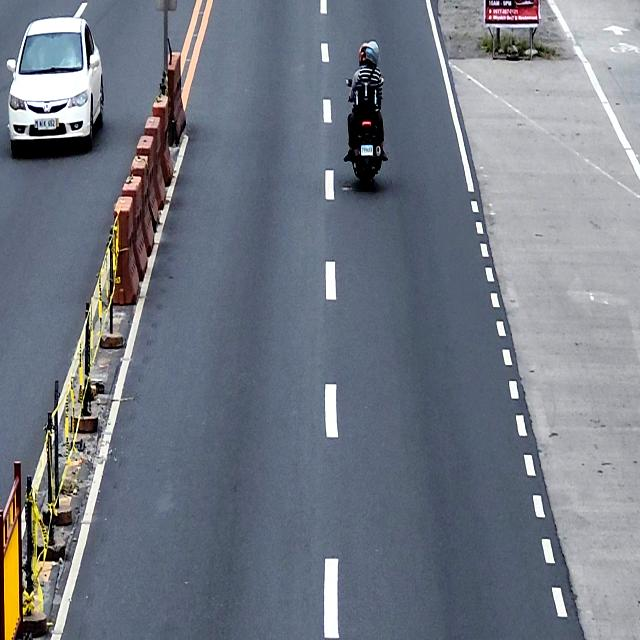Car: (6, 14, 104, 154)
License-Plate: (37, 118, 57, 130), (361, 144, 374, 156)
Motorcycle: (343, 76, 387, 190)
